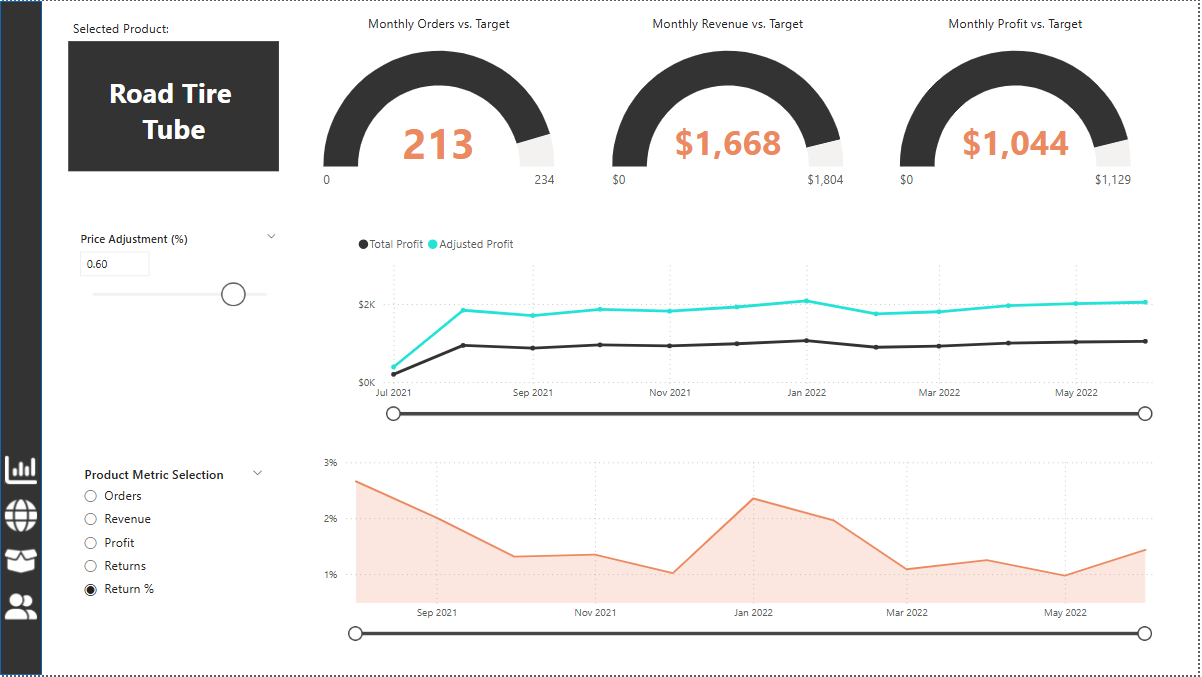

The page's visual inventory and layout, read from the dashboard file:
{"tool":"powerbi","page":{"name":"Product Detail","canvas":[1280,720],"ordinal":2},"visuals":[{"type":"shape","box":[0,0,45,719.9],"z":0},{"type":"actionButton","box":[1.3,527.9,62.3,42.4],"z":0,"group":"g1"},{"type":"gauge","title":"Monthly Orders vs. Target","fields":{"Y":["Measure Table.Total Orders"],"MaxValue":["Measure Table.Order Target"]},"box":[340.7,14.6,257.2,210.8],"z":1000},{"type":"actionButton","box":[1.3,576.5,62.3,42.4],"z":1000,"group":"g1"},{"type":"gauge","title":"Monthly Revenue vs. Target","fields":{"Y":["Measure Table.Total Revenue"],"MaxValue":["Measure Table.Revenue Target"]},"box":[648.3,14.6,257.2,210.8],"z":2000},{"type":"actionButton","box":[1.3,625.1,62.3,42.4],"z":2000,"group":"g1"},{"type":"gauge","title":"Monthly Profit vs. Target","fields":{"Y":["Measure Table.Total Profit"],"MaxValue":["Measure Table.Profit Target"]},"box":[955.8,14.6,257.2,210.8],"z":3000},{"type":"actionButton","box":[1.3,479.3,62.3,42.4],"z":3000,"group":"g1"},{"type":"lineChart","title":"Profit Trending","fields":{"Category":["Calendar Lookup.Date Hierarchy.Start of Year","Calendar Lookup.Date Hierarchy.Start of Month","Calendar Lookup.Date Hierarchy.Start of Week","Calendar Lookup.Date Hierarchy.Date"],"Y":["Measure Table.Total Profit","Measure Table.Adjusted Profit"]},"box":[377.8,240,875,212.1],"z":4000},{"type":"areaChart","title":"Return Trending","fields":{"Y":["Measure Table.Return Rate"],"Category":["Calendar Lookup.Date Hierarchy.Start of Year","Calendar Lookup.Date Hierarchy.Start of Month","Calendar Lookup.Date Hierarchy.Start of Week","Calendar Lookup.Date Hierarchy.Date"]},"box":[340.7,478.6,912.1,208.1],"z":5000},{"type":"card","fields":{"Values":["Min(Product Lookup.ProductName)"]},"box":[72.9,42.4,225.4,139.2],"z":6000},{"type":"textbox","box":[72.9,14.6,152.5,37.1],"z":7000},{"type":"group","id":"g1","title":"Navigation Buttons","box":[1.3,479.3,62.3,188.2],"z":8000},{"type":"slicer","fields":{"Values":["Price Adjustment (%).Price Adjustment (%)"]},"box":[72.9,240,234.6,120.6],"z":9000},{"type":"slicer","fields":{"Values":["Product Metric Selection.Product Metric Selection"]},"box":[76.9,491.8,216.1,184.3],"z":10000}]}

Visuals, with their boxes on the page's 1280x720 design canvas (x1, y1, x2, y2). These are canvas units, not pixel positions in the 1202x677 screenshot, which may show the page scaled, cropped or inside an application window:
shape: [0,0,45,720]
actionButton: [1,528,64,570]
"Monthly Orders vs. Target" gauge: [341,15,598,225]
actionButton: [1,576,64,619]
"Monthly Revenue vs. Target" gauge: [648,15,906,225]
actionButton: [1,625,64,668]
"Monthly Profit vs. Target" gauge: [956,15,1213,225]
actionButton: [1,479,64,522]
"Profit Trending" lineChart: [378,240,1253,452]
"Return Trending" areaChart: [341,479,1253,687]
card - Min(Product Lookup.ProductName): [73,42,298,182]
textbox: [73,15,225,52]
"Navigation Buttons" group: [1,479,64,668]
slicer - Price Adjustment (%).Price Adjustment (%): [73,240,308,361]
slicer - Product Metric Selection.Product Metric Selection: [77,492,293,676]
